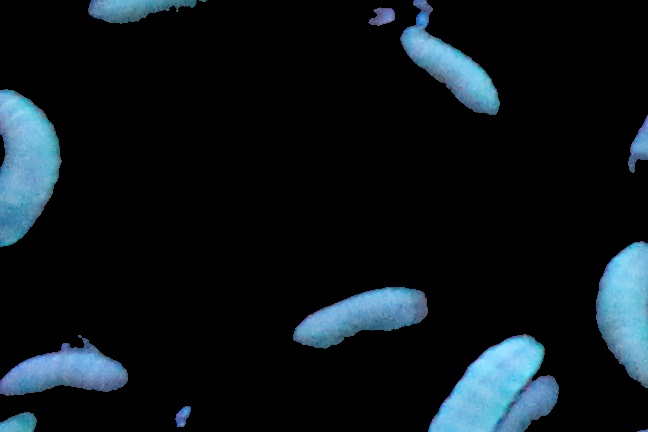larvae: (421, 338, 545, 432), (1, 88, 64, 251), (295, 283, 426, 358), (397, 29, 505, 114), (594, 239, 648, 395), (1, 348, 130, 396), (500, 376, 570, 431)
